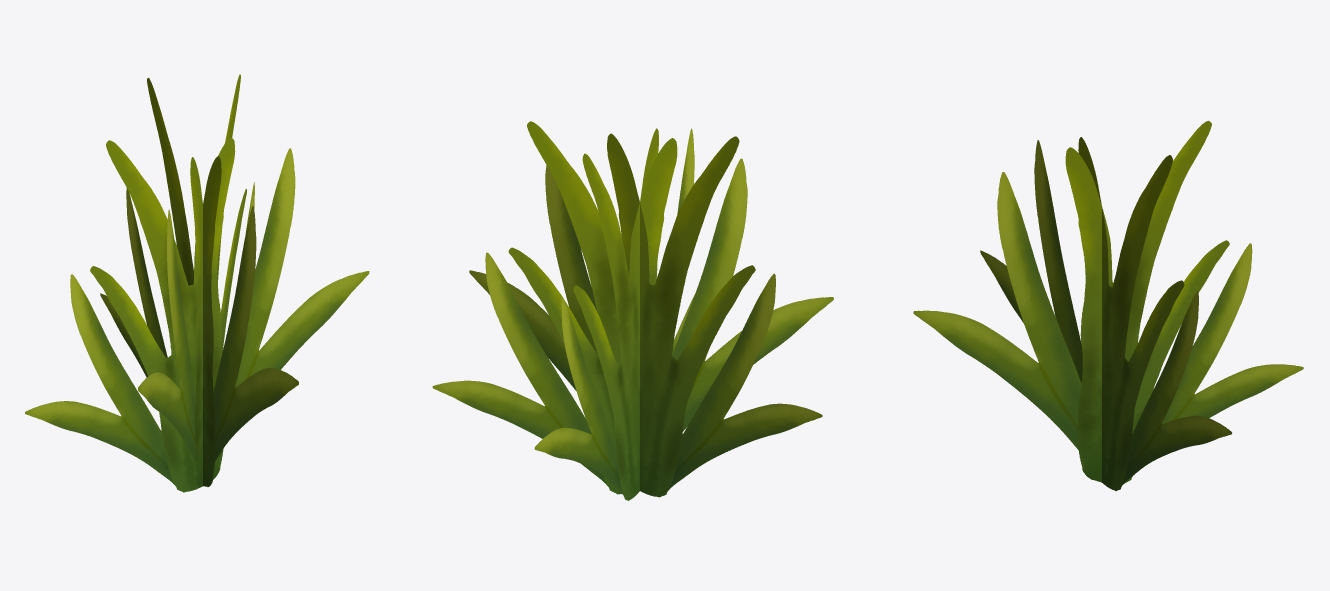
The model's file is AlgaSub_02.fbx.
3 renders of one model, left to right at view 1: azimuth 30°, elevation 25°; view 2: azimuth 150°, elevation 25°; view 3: azimuth 270°, elevation 25°, orthographic. The views are drawn at different scales.
Visible parts, largest first — view 1: ALGA_01A; view 2: ALGA_01A; view 3: ALGA_01A.
Part boxes in pixels (box(x1,y1,x2,y2)): ALGA_01A: box(25, 74, 369, 492); ALGA_01A: box(432, 121, 833, 500); ALGA_01A: box(913, 120, 1303, 490).
Size of the model in its own units: 53.04 by 52.39 by 53.04.
